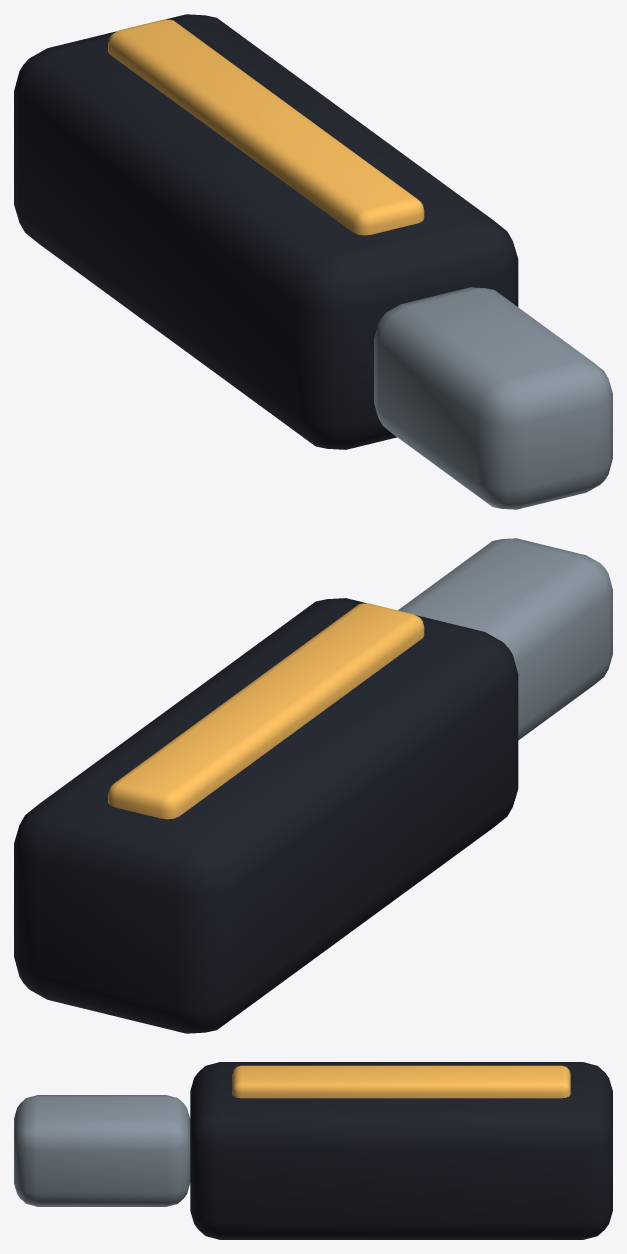
The model's file is s02_smg.glb.
3 views of the same model, one above another, from view 1: azimuth 30°, elevation 25°; view 2: azimuth 150°, elevation 25°; view 3: azimuth 270°, elevation 25° (orthographic). The views are drawn at different scales.
Visible parts, largest first — view 1: s02_smg_Body, Stock, s02_smg_Sight; view 2: s02_smg_Body, Stock, s02_smg_Sight; view 3: s02_smg_Body, Stock, s02_smg_Sight.
Part boxes in pixels (x1,y1,x2,y2): s02_smg_Body: (14, 14, 518, 449); Stock: (374, 287, 612, 509); s02_smg_Sight: (108, 19, 424, 235); s02_smg_Body: (14, 598, 518, 1033); Stock: (398, 538, 612, 740); s02_smg_Sight: (108, 603, 424, 819); s02_smg_Body: (190, 1062, 612, 1239); Stock: (14, 1095, 190, 1206); s02_smg_Sight: (232, 1065, 570, 1098).
Size of the model in its own units: 0.28 by 0.265 by 1.02.
